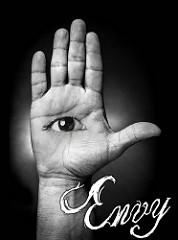palm: (25, 89, 113, 171)
